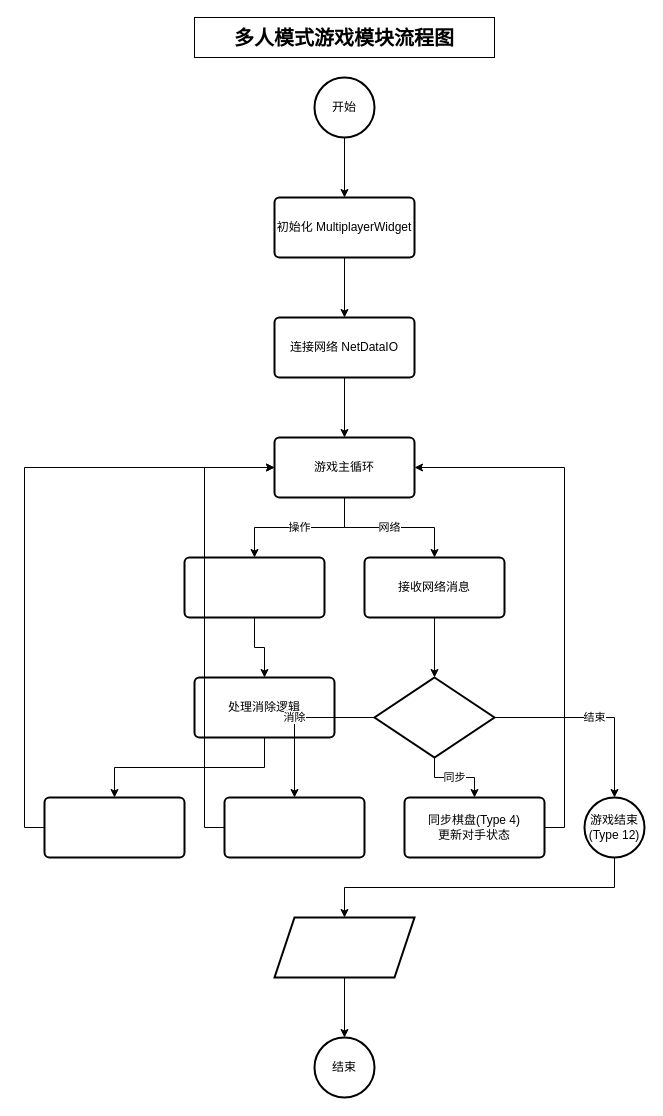
Some shapes in this 663 by 1116 pixel diagram are drawn without their labels. The centre of each missing label's shape, as x and y in pixels:
"发送 GameNetData (Type 2/4)" belongs at (114,827).
"对手消除(Type 2) 播放对手动画" belongs at (294,827).
"显示结算界面" belongs at (344,947).
"本地操作(消除)" belongs at (254,587).
"消息类型?" belongs at (434,717).
